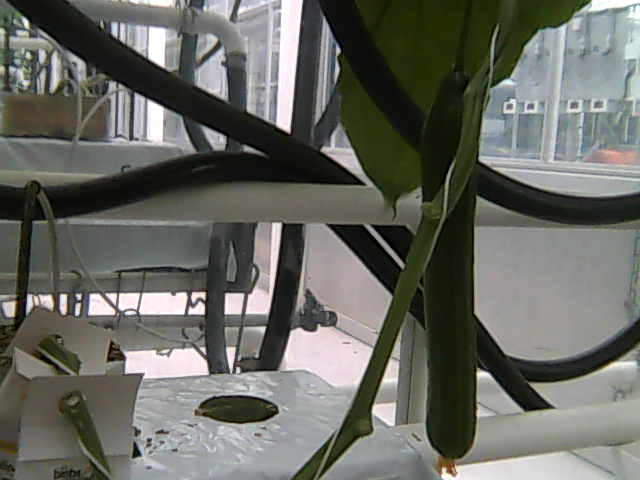concombre: (418, 62, 481, 477)
